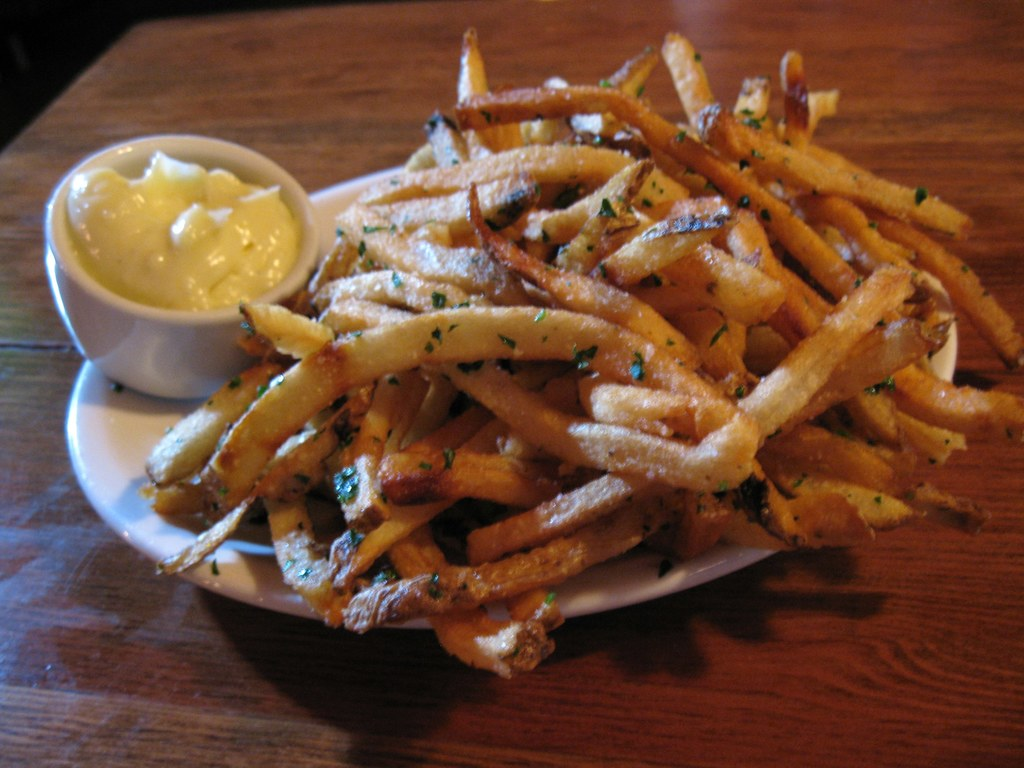French fries: (136, 20, 1023, 680)
